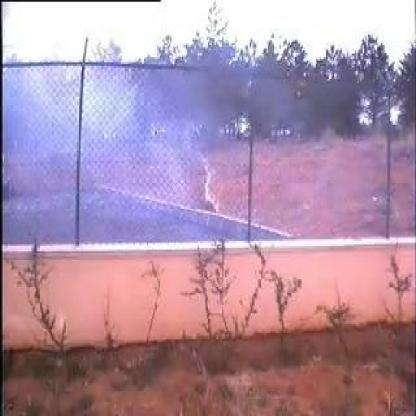-: (31, 61, 177, 242)
